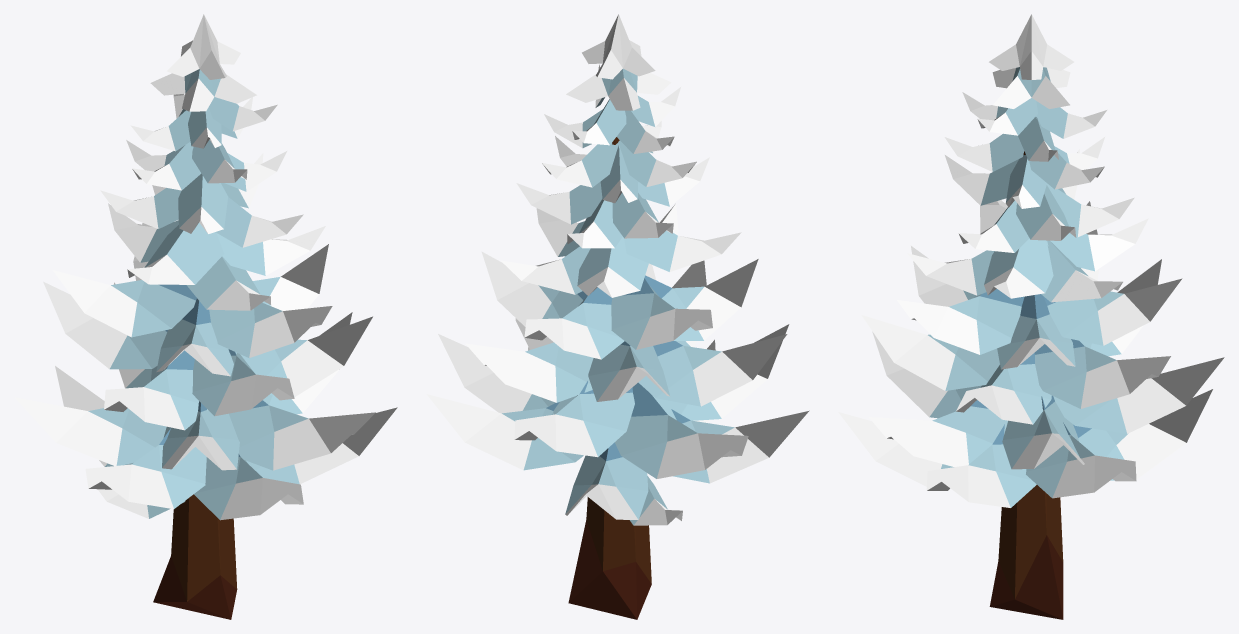
The model's file is treeSpruceLarge1.fbx.
3 views of the same model, side by side, from view 1: azimuth 30°, elevation 25°; view 2: azimuth 150°, elevation 25°; view 3: azimuth 270°, elevation 25° (orthographic).
Parts seen in each view (by area): view 1: trunk, bigBranch_8, bigBranch_5, bigBranch_15, bigBranch_4, bigBranch_12, bigBranch_10, bigBranch_18, bigBranch_14, bigBranch, bigBranch_13, smallBranch_1 (+24 smaller); view 2: trunk, bigBranch_5, bigBranch_14, bigBranch_6, bigBranch_2, bigBranch_11, bigBranch_15, bigBranch_3, bigBranch_16, bigBranch_4, bigBranch_19, bigBranch_17 (+22 smaller); view 3: trunk, bigBranch_11, bigBranch_6, bigBranch_8, bigBranch_13, bigBranch_18, bigBranch_16, bigBranch_3, bigBranch_1, bigBranch_2, bigBranch_12, bigBranch_7 (+24 smaller).
Part boxes in pixels (x1,y1,x2,y2): trunk: [153, 494, 237, 619]; bigBranch_8: [229, 400, 375, 470]; bigBranch_5: [14, 397, 166, 465]; bigBranch_15: [52, 270, 196, 337]; bigBranch_4: [85, 428, 206, 508]; bigBranch_12: [240, 316, 372, 397]; bigBranch_10: [43, 281, 167, 369]; bigBranch_18: [209, 302, 332, 357]; bigBranch_14: [104, 350, 208, 430]; bigBranch: [194, 454, 303, 520]; bigBranch_13: [192, 349, 294, 416]; smallBranch_1: [127, 223, 223, 284]; trunk: [568, 137, 651, 619]; bigBranch_5: [615, 382, 748, 478]; bigBranch_14: [638, 334, 787, 406]; bigBranch_6: [514, 381, 634, 457]; bigBranch_2: [426, 394, 583, 470]; bigBranch_11: [465, 342, 593, 402]; bigBranch_15: [611, 278, 712, 349]; bigBranch_3: [565, 442, 648, 519]; bigBranch_16: [524, 287, 624, 359]; bigBranch_4: [671, 409, 809, 483]; bigBranch_19: [644, 259, 758, 340]; bigBranch_17: [481, 251, 587, 326]; trunk: [989, 151, 1063, 619]; bigBranch_11: [1034, 339, 1170, 408]; bigBranch_6: [1053, 357, 1224, 433]; bigBranch_8: [868, 400, 1007, 466]; bigBranch_13: [861, 315, 999, 390]; bigBranch_18: [897, 289, 1024, 354]; bigBranch_16: [1043, 278, 1182, 345]; bigBranch_3: [1073, 389, 1212, 480]; bigBranch_1: [926, 424, 1036, 507]; bigBranch_2: [1026, 422, 1136, 498]; bigBranch_12: [956, 353, 1051, 424]; bigBranch_7: [1002, 395, 1084, 469].
Bounding box in the file's own units: 876 × 1519 × 903.
Materials: 1 (1 with a texture image).
